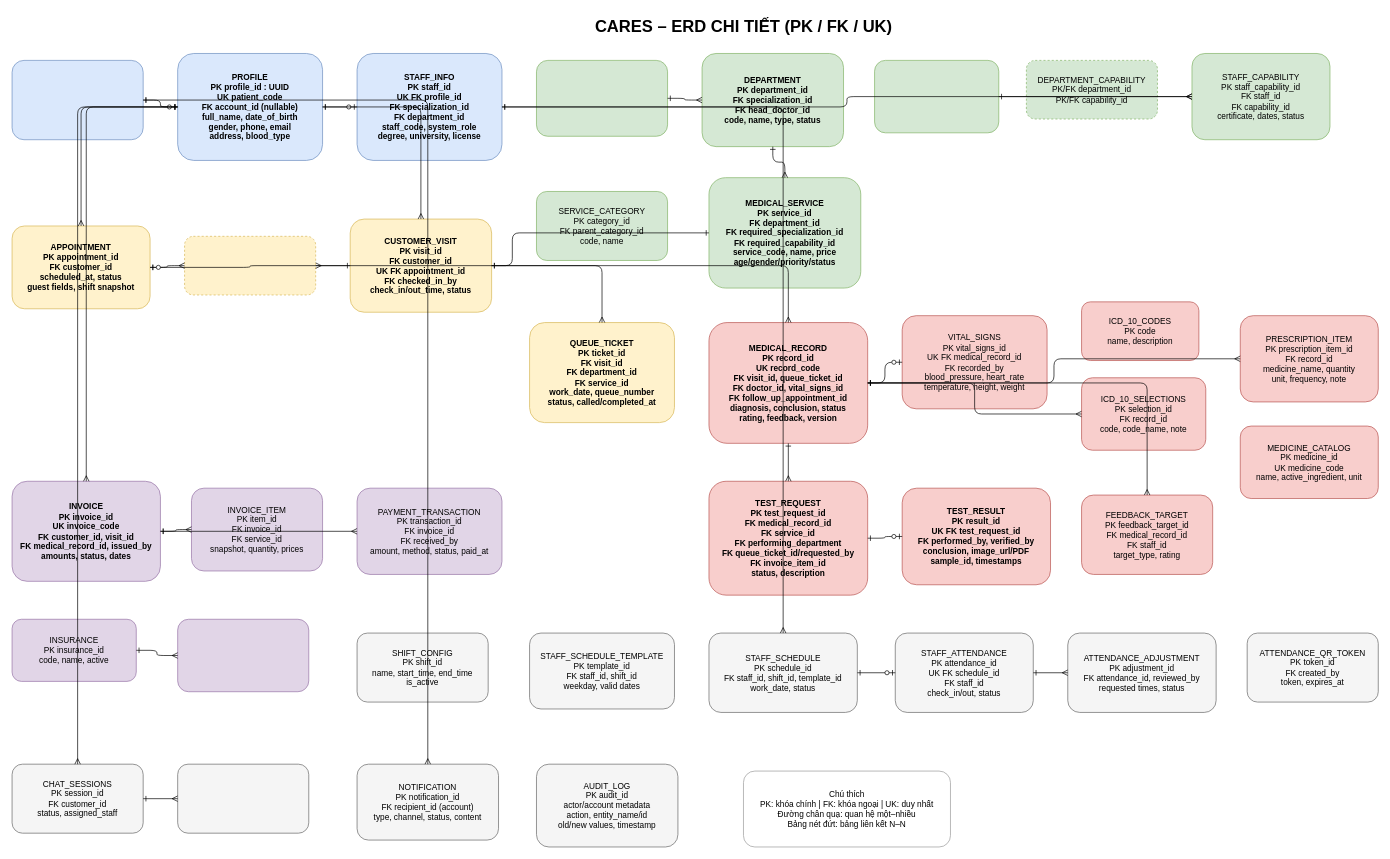
This 1390x859 diagram has some shape labels left out. The centre of each missing label's shape, as x and y in pixels:
ACCOUNT PK account_id : UUID UK username password_hash role, is_active: point (77, 100)
APPOINTMENT_SERVICES PK/FK appointment_id PK/FK service_id: point (250, 265)
CHAT_MESSAGES PK message_id FK session_id sender_type/id, content: point (243, 798)
INSURANCE_RULE PK rule_id FK insurance_id department_type, discount: point (243, 655)
SERVICE_CAPABILITY PK capability_id UK code name, active: point (936, 96)
SPECIALIZATION PK specialization_id UK code name, age/gender rules: point (602, 98)
